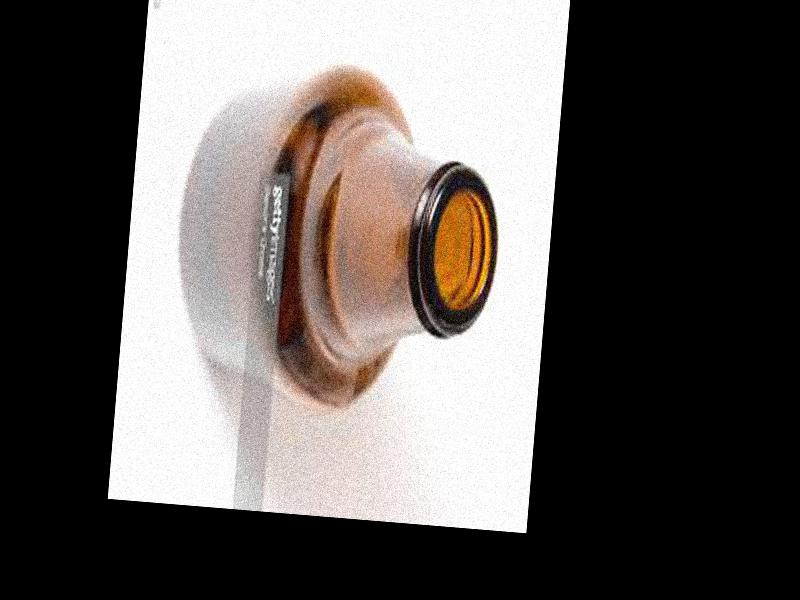Beer: (164, 54, 512, 425)
